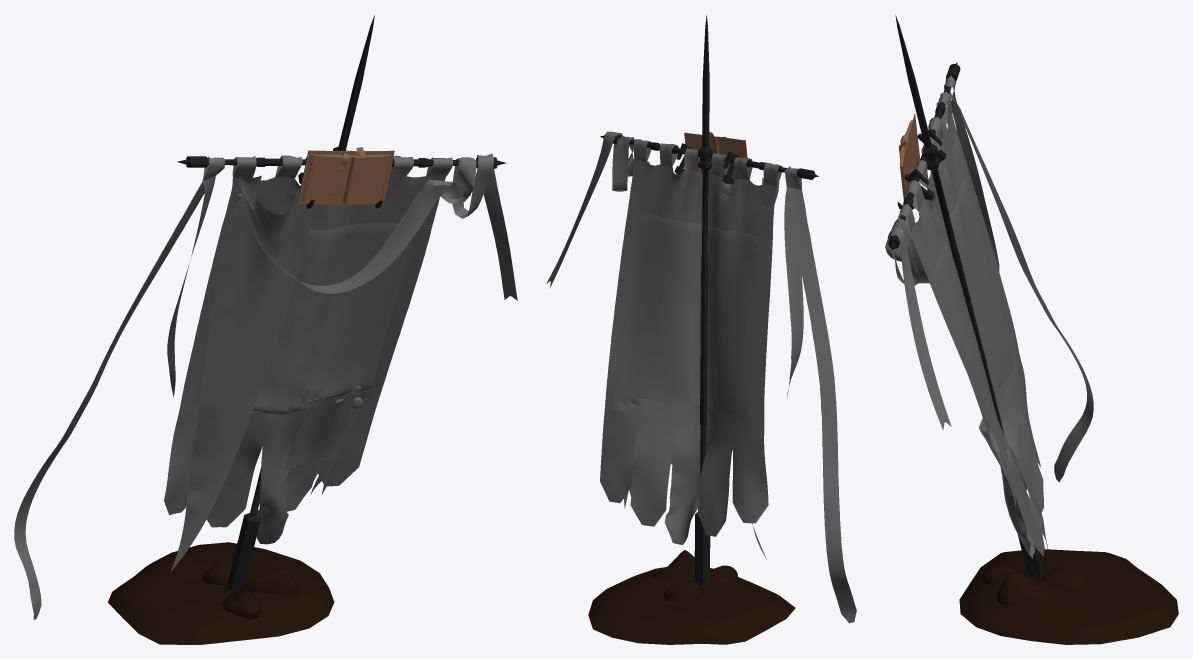
The model's file is Banner_1.fbx.
The picture shows the model from 3 angles, left to right: view 1: azimuth 30°, elevation 25°; view 2: azimuth 150°, elevation 25°; view 3: azimuth 270°, elevation 25°; orthographic projection. The views are drawn at different scales.
Visible parts, largest first — view 1: Banner_1; view 2: Banner_1; view 3: Banner_1.
Boxes of the visible parts, x1,y1,x2,y2 form: Banner_1: [14, 15, 517, 644]; Banner_1: [546, 15, 856, 644]; Banner_1: [885, 14, 1178, 644].
Size of the model in its own units: 141 by 85.57 by 198.
